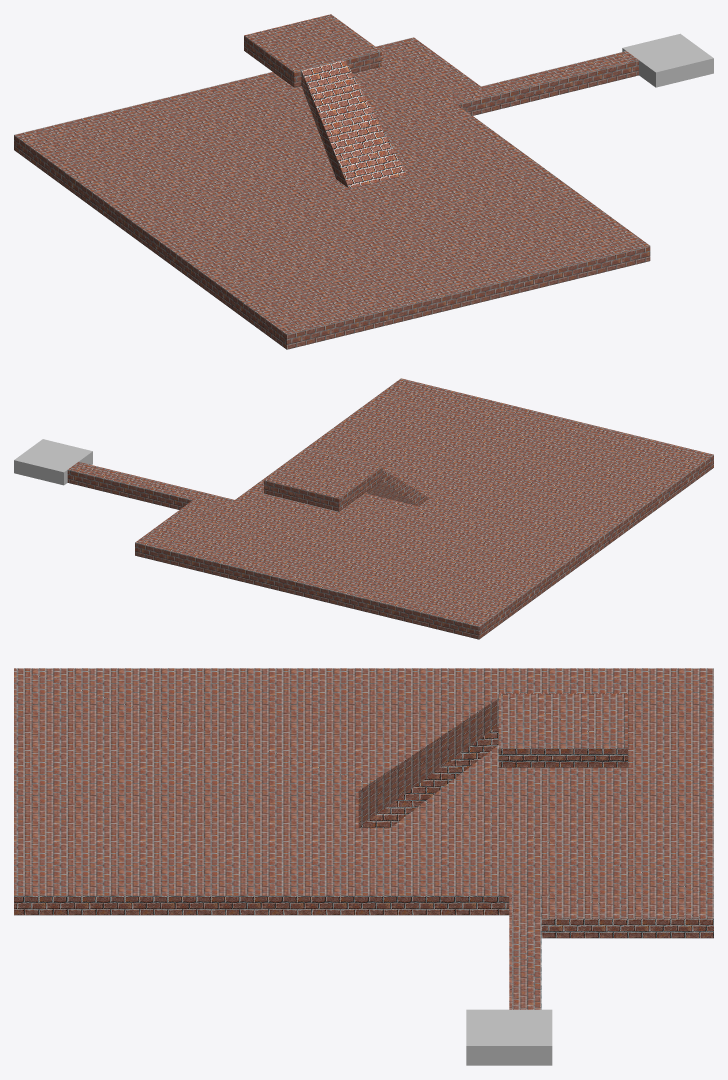
The model's file is recastTest.obj.
3 views of the same model, one above another, from view 1: azimuth 30°, elevation 25°; view 2: azimuth 150°, elevation 25°; view 3: azimuth 270°, elevation 25° (orthographic). The views are drawn at different scales.
Visible parts, largest first — view 1: entity0_brush3, entity0_brush5, entity0_brush4, entity0_brush1, entity0_brush0, entity0_brush2; view 2: entity0_brush3, entity0_brush4, entity0_brush1, entity0_brush0, entity0_brush2, entity0_brush5; view 3: entity0_brush3, entity0_brush4, entity0_brush2, entity0_brush5, entity0_brush0, entity0_brush1.
Boxes of the visible parts, left/top/right/bottom form: entity0_brush3: left=14, top=46, right=650, bottom=349; entity0_brush5: left=301, top=60, right=406, bottom=188; entity0_brush4: left=244, top=14, right=381, bottom=87; entity0_brush1: left=445, top=51, right=638, bottom=115; entity0_brush0: left=622, top=33, right=713, bottom=87; entity0_brush2: left=378, top=37, right=480, bottom=95; entity0_brush3: left=166, top=378, right=713, bottom=639; entity0_brush4: left=264, top=448, right=382, bottom=511; entity0_brush1: left=67, top=462, right=234, bottom=509; entity0_brush0: left=14, top=439, right=92, bottom=485; entity0_brush2: left=135, top=500, right=223, bottom=562; entity0_brush5: left=366, top=469, right=428, bottom=505; entity0_brush3: left=14, top=668, right=713, bottom=915; entity0_brush4: left=498, top=693, right=627, bottom=767; entity0_brush2: left=541, top=896, right=713, bottom=938; entity0_brush5: left=358, top=698, right=498, bottom=827; entity0_brush0: left=466, top=1009, right=552, bottom=1065; entity0_brush1: left=509, top=896, right=541, bottom=1009.
Size of the model in its own units: 1328 by 192 by 1040.
